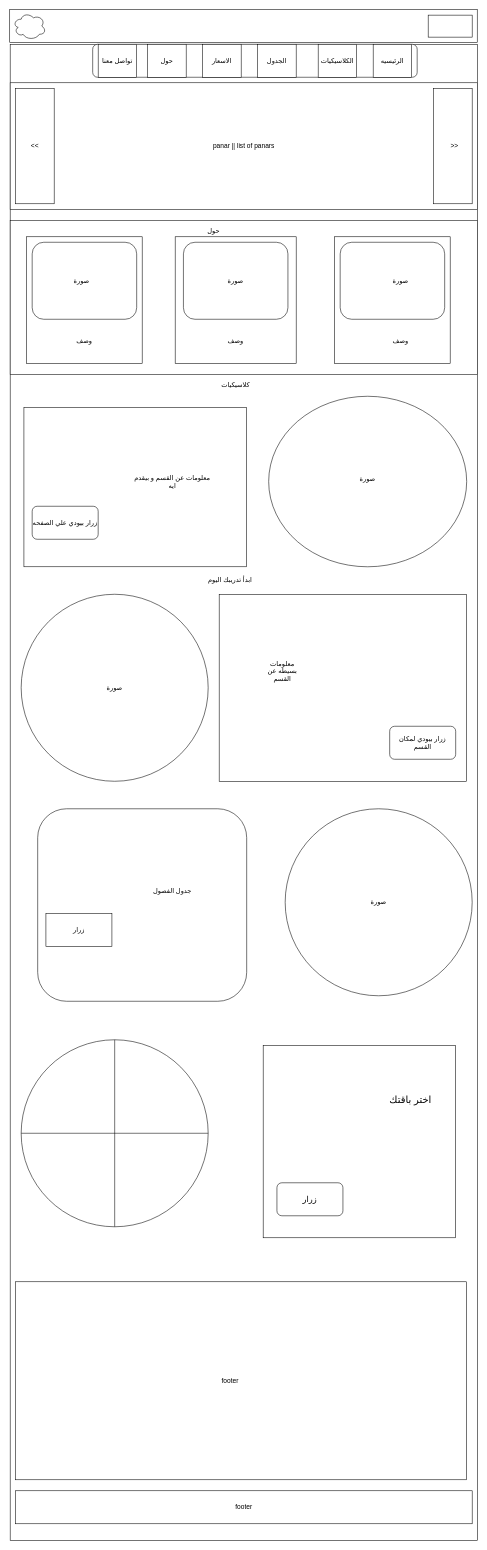
This 487x1550 diagram has some shape labels left out. The centre of each missing label's shape, as x and y in pixels:
logo: (x=29, y=26)
سوشيال ميديا: (x=450, y=26)
